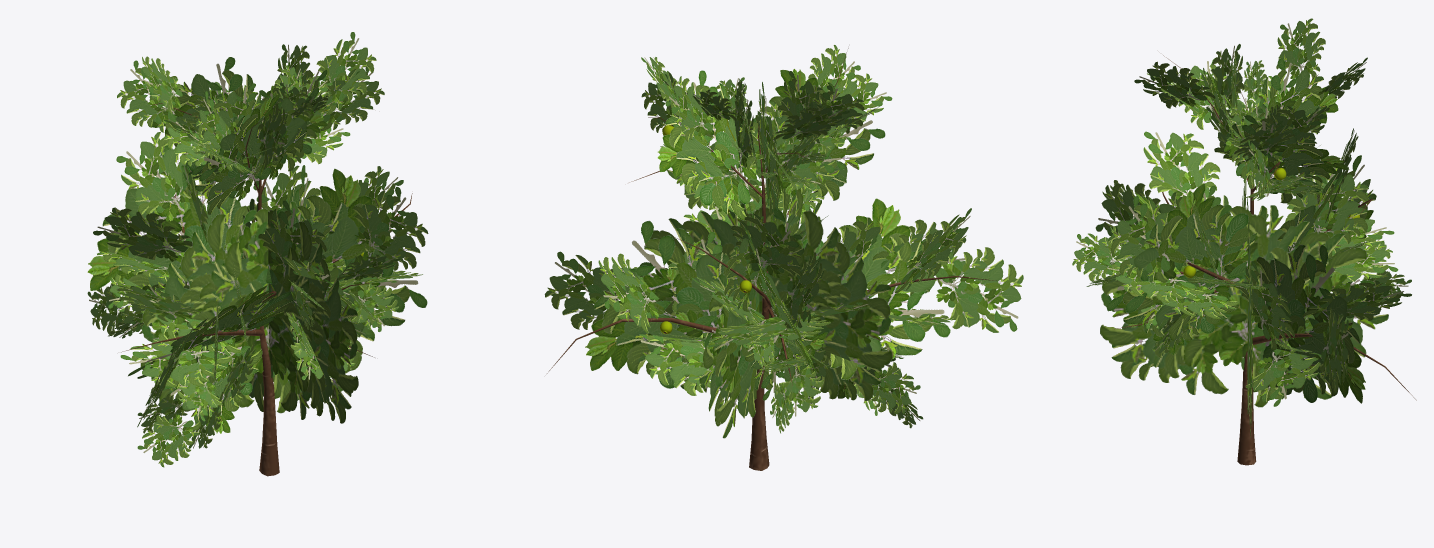
File: SM_GuavaTree.fbx
3 renders of one model, left to right at view 1: azimuth 30°, elevation 25°; view 2: azimuth 150°, elevation 25°; view 3: azimuth 270°, elevation 25°, orthographic. The views are drawn at different scales.
Parts seen in each view (by area): view 1: polySurface2, polySurface1, polySurface6, polySurface7, polySurface4, polySurface45, polySurface35, polySurface9, polySurface44, polySurface54, polySurface3, polySurface28 (+31 smaller); view 2: polySurface1, polySurface8, polySurface9, polySurface2, polySurface5, polySurface55, polySurface4, polySurface47, polySurface49, polySurface45, polySurface51, polySurface52 (+28 smaller); view 3: polySurface2, polySurface6, polySurface8, polySurface52, polySurface5, polySurface40, polySurface35, polySurface3, polySurface48, polySurface46, polySurface51, polySurface26 (+28 smaller).
Boxes of the visible parts, left/top/right/bottom form: polySurface2: left=241, top=198, right=358, bottom=423; polySurface1: left=140, top=201, right=385, bottom=413; polySurface6: left=241, top=168, right=427, bottom=337; polySurface7: left=87, top=145, right=256, bottom=297; polySurface4: left=192, top=94, right=286, bottom=214; polySurface45: left=116, top=132, right=205, bottom=221; polySurface35: left=352, top=187, right=428, bottom=276; polySurface9: left=128, top=285, right=294, bottom=378; polySurface44: left=93, top=207, right=192, bottom=261; polySurface54: left=120, top=333, right=232, bottom=387; polySurface3: left=152, top=57, right=280, bottom=198; polySurface28: left=316, top=32, right=376, bottom=114; polySurface1: left=639, top=203, right=892, bottom=403; polySurface8: left=585, top=220, right=739, bottom=388; polySurface9: left=802, top=198, right=950, bottom=379; polySurface2: left=699, top=183, right=821, bottom=438; polySurface5: left=657, top=70, right=756, bottom=220; polySurface55: left=931, top=247, right=1023, bottom=332; polySurface4: left=740, top=69, right=885, bottom=200; polySurface47: left=544, top=251, right=621, bottom=329; polySurface49: left=639, top=328, right=742, bottom=395; polySurface45: left=731, top=214, right=804, bottom=278; polySurface51: left=598, top=253, right=659, bottom=333; polySurface52: left=895, top=208, right=971, bottom=293; polySurface2: left=1100, top=205, right=1388, bottom=407; polySurface6: left=1106, top=183, right=1256, bottom=341; polySurface8: left=1255, top=244, right=1365, bottom=403; polySurface52: left=1143, top=131, right=1220, bottom=207; polySurface5: left=1214, top=115, right=1349, bottom=203; polySurface40: left=1287, top=167, right=1369, bottom=262; polySurface35: left=1108, top=196, right=1179, bottom=282; polySurface3: left=1251, top=58, right=1338, bottom=177; polySurface48: left=1245, top=340, right=1320, bottom=406; polySurface46: left=1237, top=261, right=1294, bottom=350; polySurface51: left=1302, top=280, right=1411, bottom=320; polySurface26: left=1134, top=61, right=1215, bottom=108.
Bounding box in the file's own units: 33.94 × 36.82 × 27.9.
Materials: 3 (3 with a texture image).
